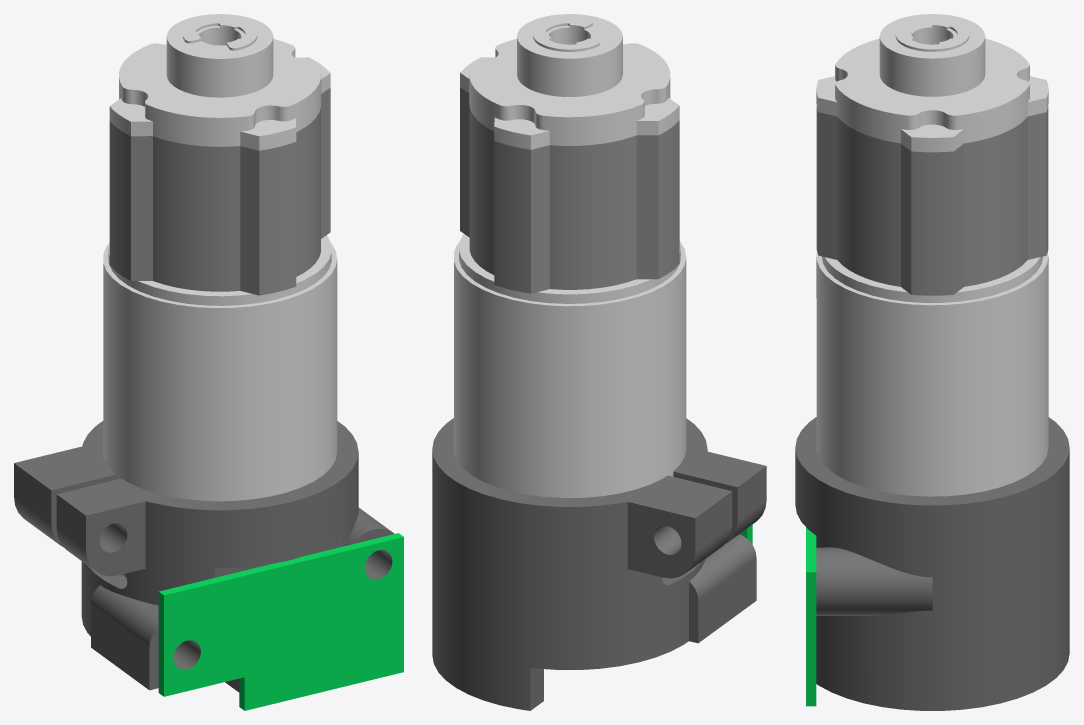
File: Cubo_v1.glb
The picture shows the model from 3 angles, left to right: view 1: azimuth 30°, elevation 25°; view 2: azimuth 150°, elevation 25°; view 3: azimuth 270°, elevation 25°; orthographic projection.
Parts seen in each view (by area): view 1: N_1; view 2: N_1; view 3: N_1.
Boxes of the visible parts, x1,y1,x2,y2 form: N_1: [14, 14, 403, 710]; N_1: [432, 14, 766, 710]; N_1: [795, 14, 1069, 710].
Bounding box in the file's own units: 0.0315 × 0.0647 × 0.026.
